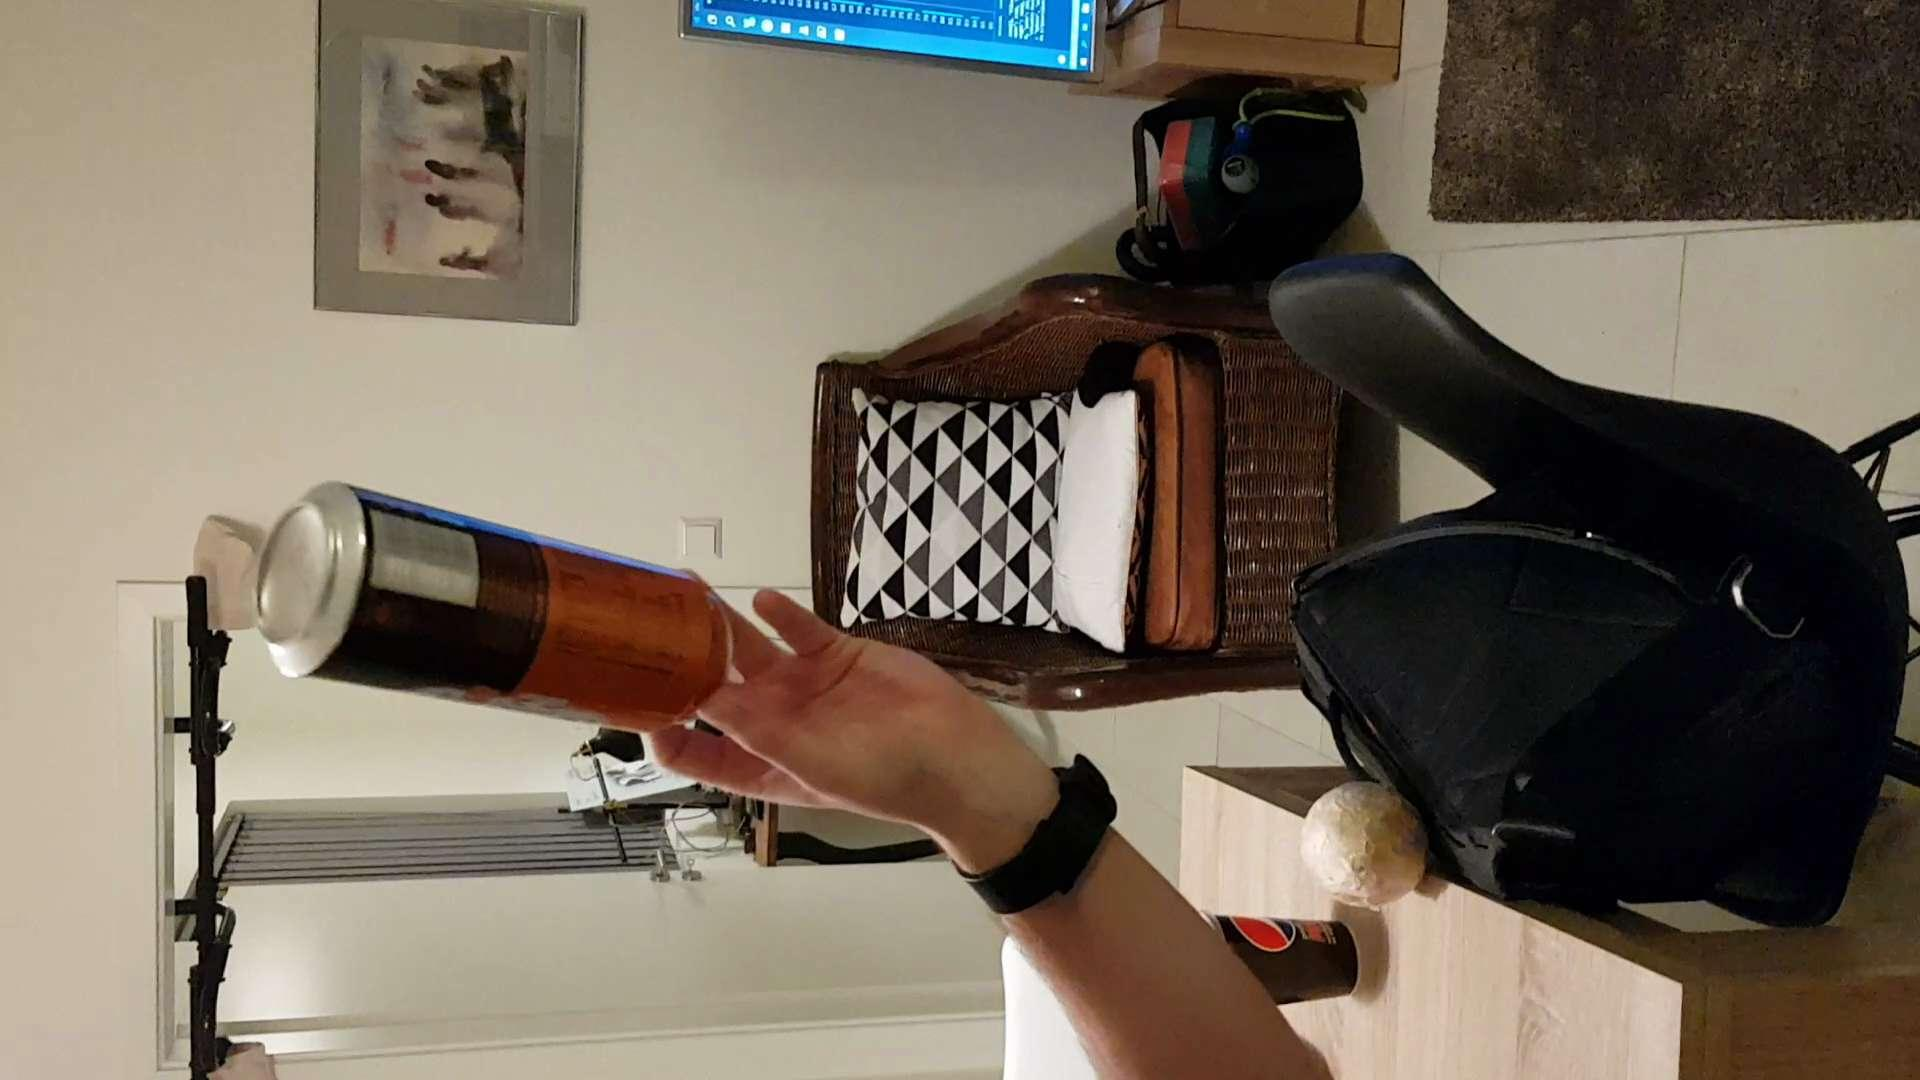Can: (240, 476, 733, 729)
